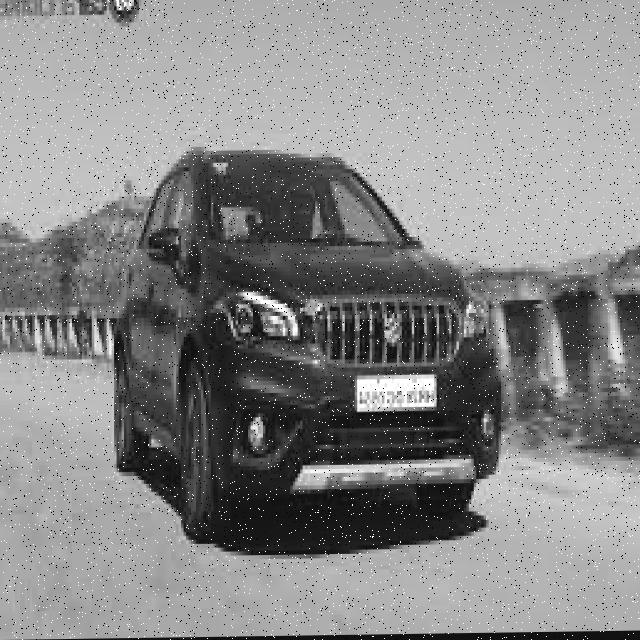car: (104, 132, 496, 558)
